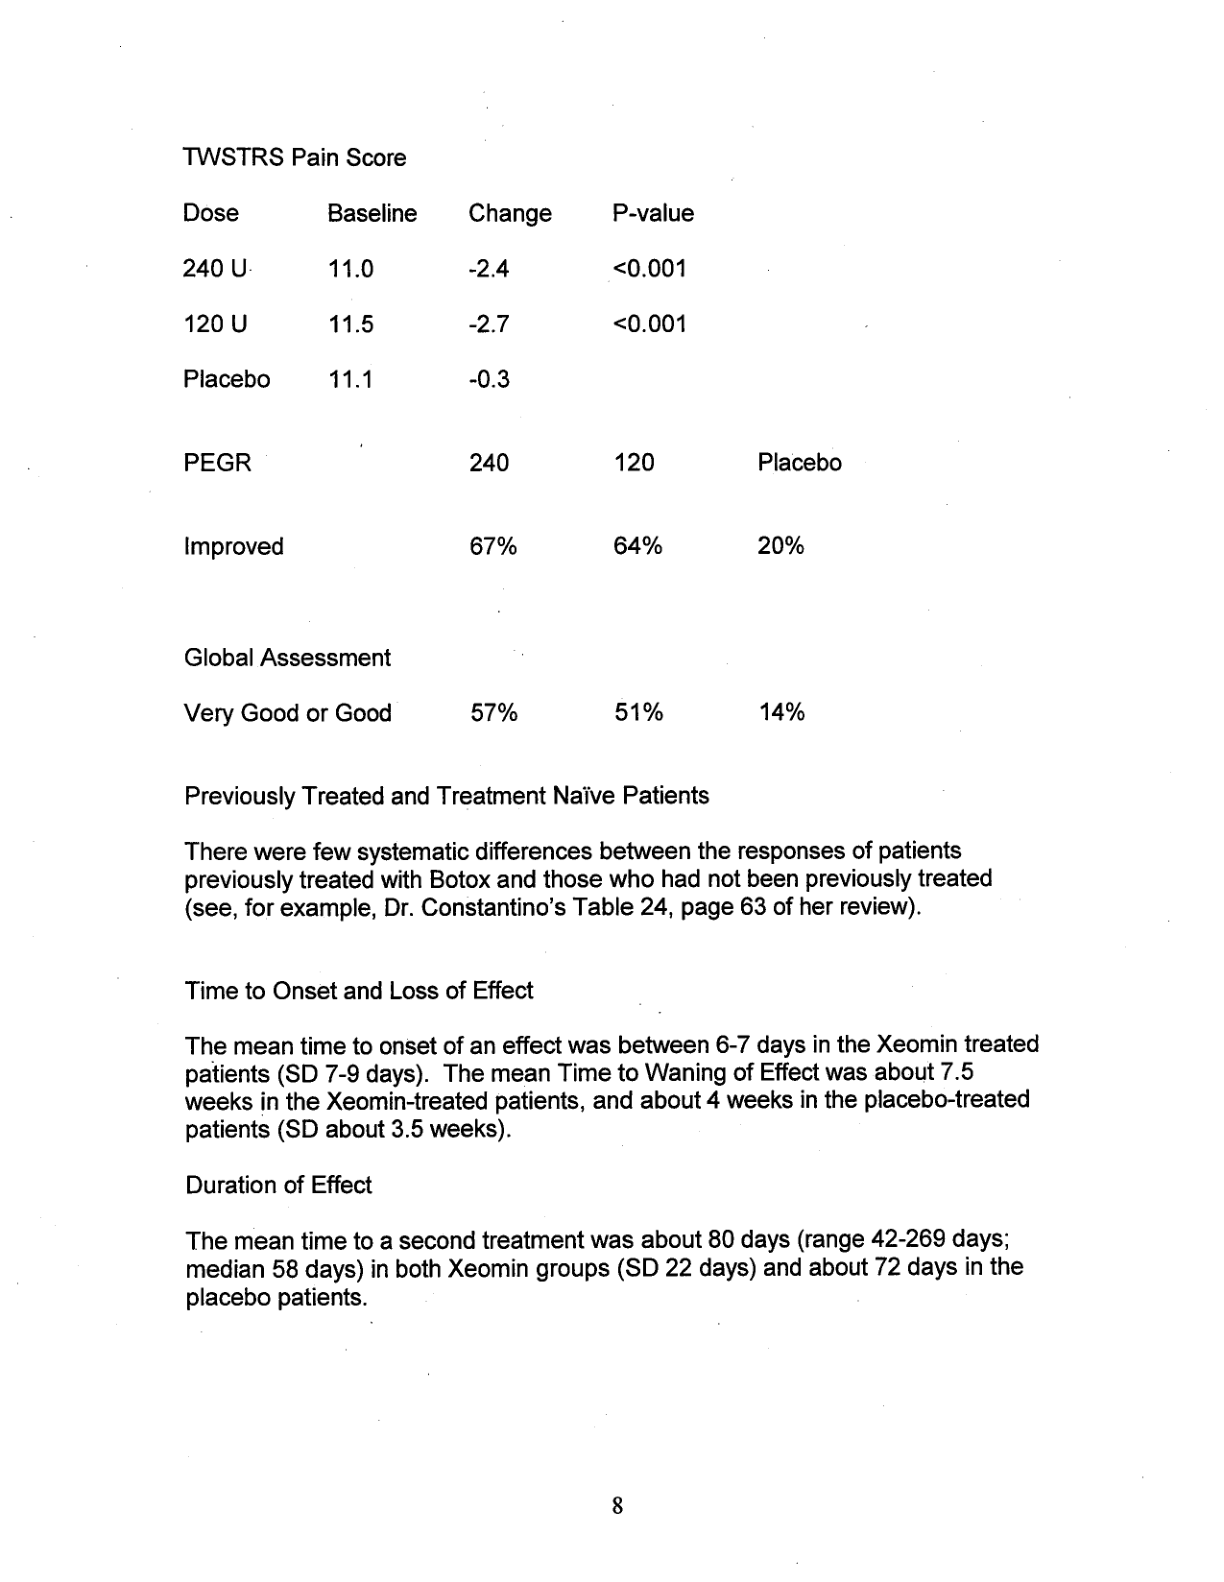nolines: (179, 196, 844, 729)
